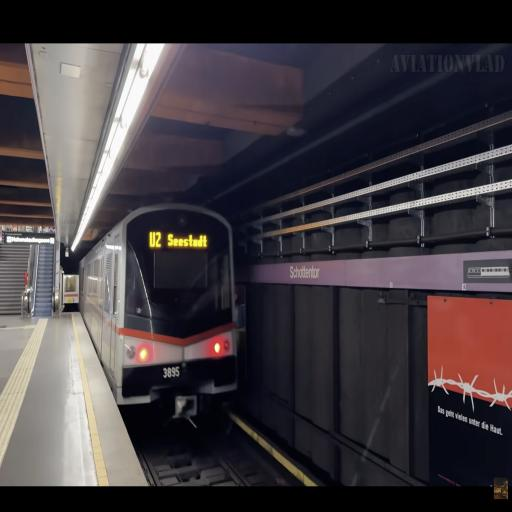V-Wagen: (80, 198, 242, 426)
